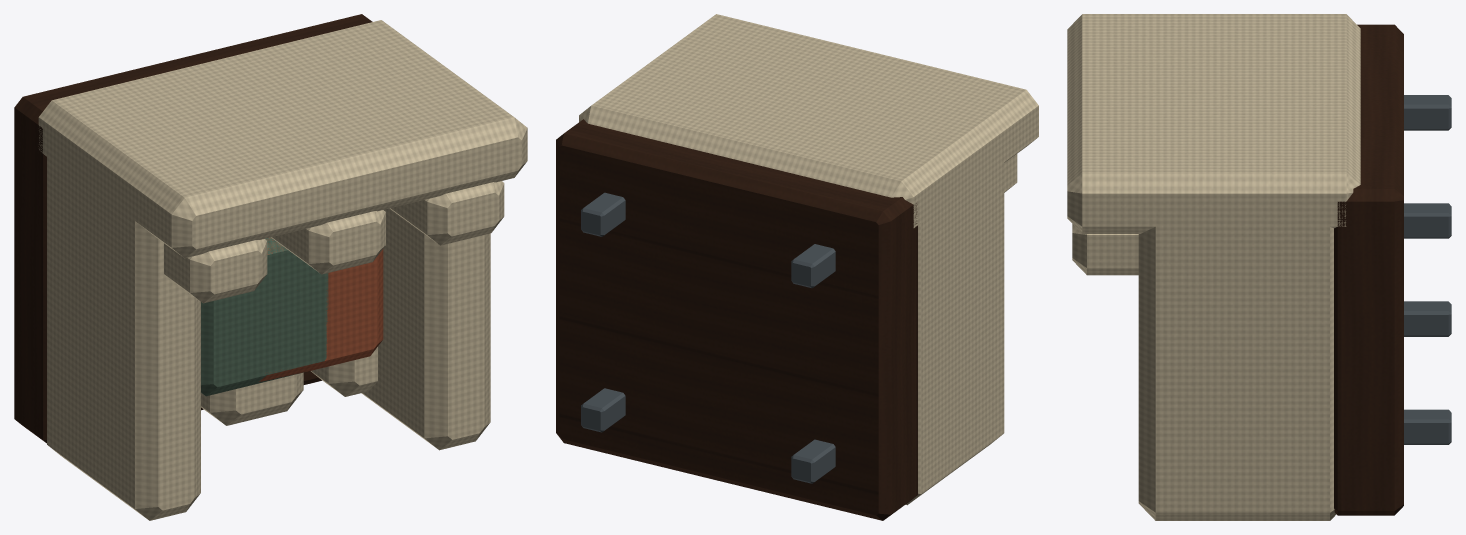
Rendered from lounge_chair.obj.
3 renders of one model, left to right at view 1: azimuth 30°, elevation 25°; view 2: azimuth 150°, elevation 25°; view 3: azimuth 270°, elevation 25°, orthographic. The views are drawn at different scales.
Parts seen in each view (by area): view 1: lounge_chair_fabric, lounge_chair_walnut, lounge_chair_sage, lounge_chair_clay; view 2: lounge_chair_walnut, lounge_chair_fabric, lounge_chair_metal; view 3: lounge_chair_fabric, lounge_chair_walnut, lounge_chair_metal.
Boxes of the visible parts, x1,y1,x2,y2 form: lounge_chair_fabric: (38,20,527,520); lounge_chair_walnut: (14,14,372,443); lounge_chair_sage: (201,237,328,396); lounge_chair_clay: (259,237,383,381); lounge_chair_walnut: (556,119,917,520); lounge_chair_fabric: (579,14,1038,505); lounge_chair_metal: (581,192,835,483); lounge_chair_fabric: (1067,14,1360,520); lounge_chair_walnut: (1334,24,1403,515); lounge_chair_metal: (1404,95,1451,444).
Bounding box in the file's own units: 43 × 40.5 × 40.5.
Materials: 5 (5 with a texture image).
